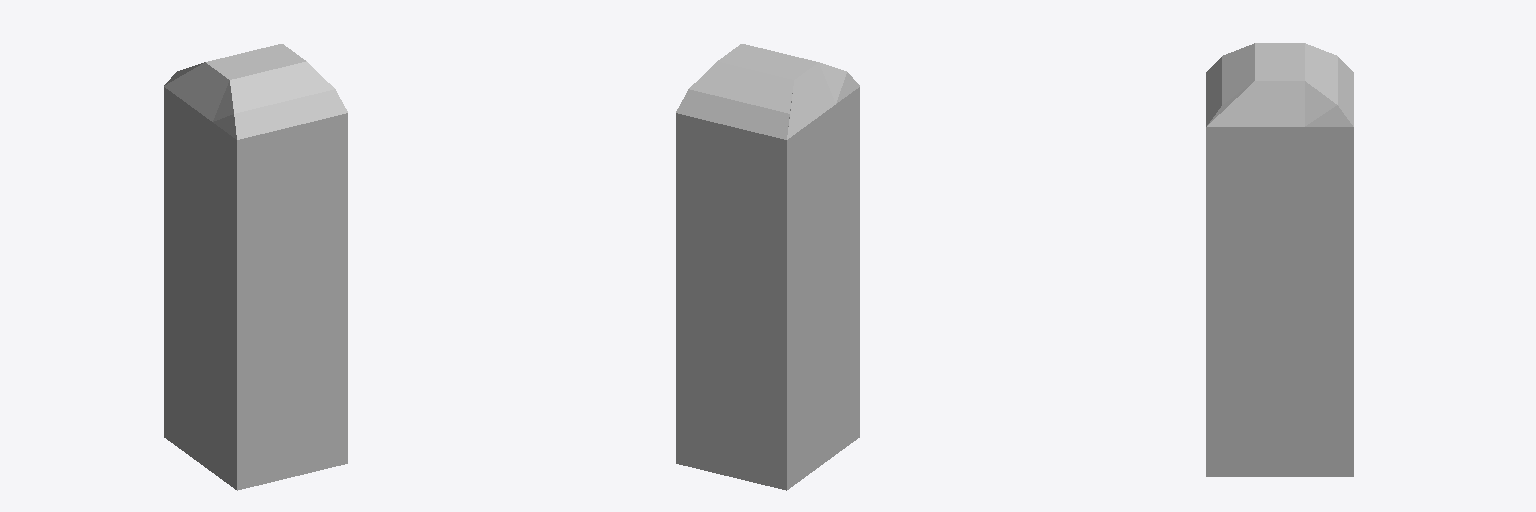
The model's file is SwitchDongle.obj.
The picture shows the model from 3 angles: view 1: azimuth 30°, elevation 25°; view 2: azimuth 150°, elevation 25°; view 3: azimuth 270°, elevation 25°; orthographic projection.
Visible parts, largest first — view 1: Cube.005_Cube.007; view 2: Cube.005_Cube.007; view 3: Cube.005_Cube.007.
Boxes of the visible parts, x1,y1,x2,y2 form: Cube.005_Cube.007: [164, 44, 347, 490]; Cube.005_Cube.007: [676, 44, 859, 490]; Cube.005_Cube.007: [1206, 43, 1353, 476].
Bounding box in the file's own units: 0.2496 × 0.8318 × 0.2857.